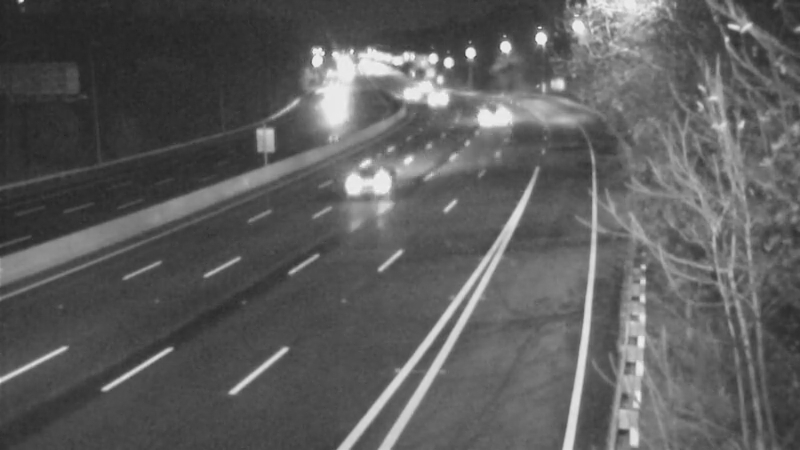vehicle: (339, 141, 419, 221), (416, 71, 466, 121), (390, 75, 440, 125), (461, 88, 511, 138), (303, 71, 353, 121)
